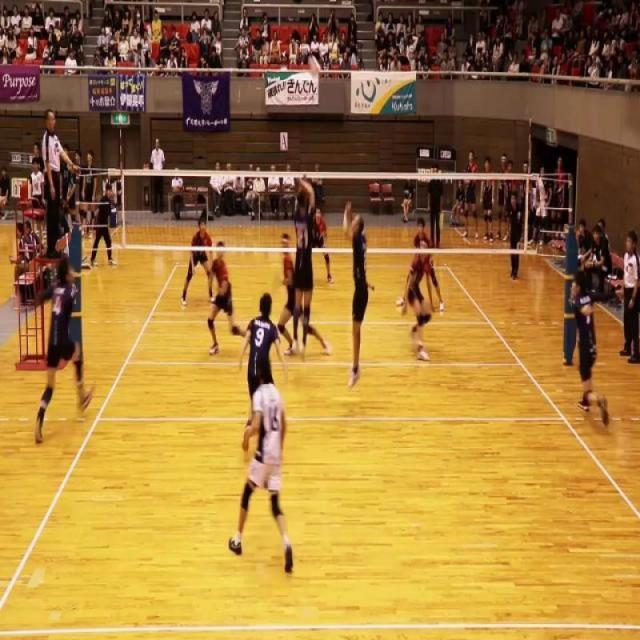volleyball: (308, 54, 320, 78)
